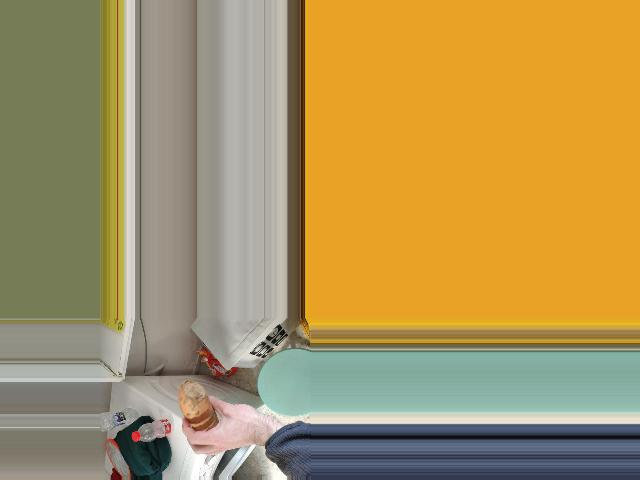sweet_potato: (178, 390, 217, 430)
